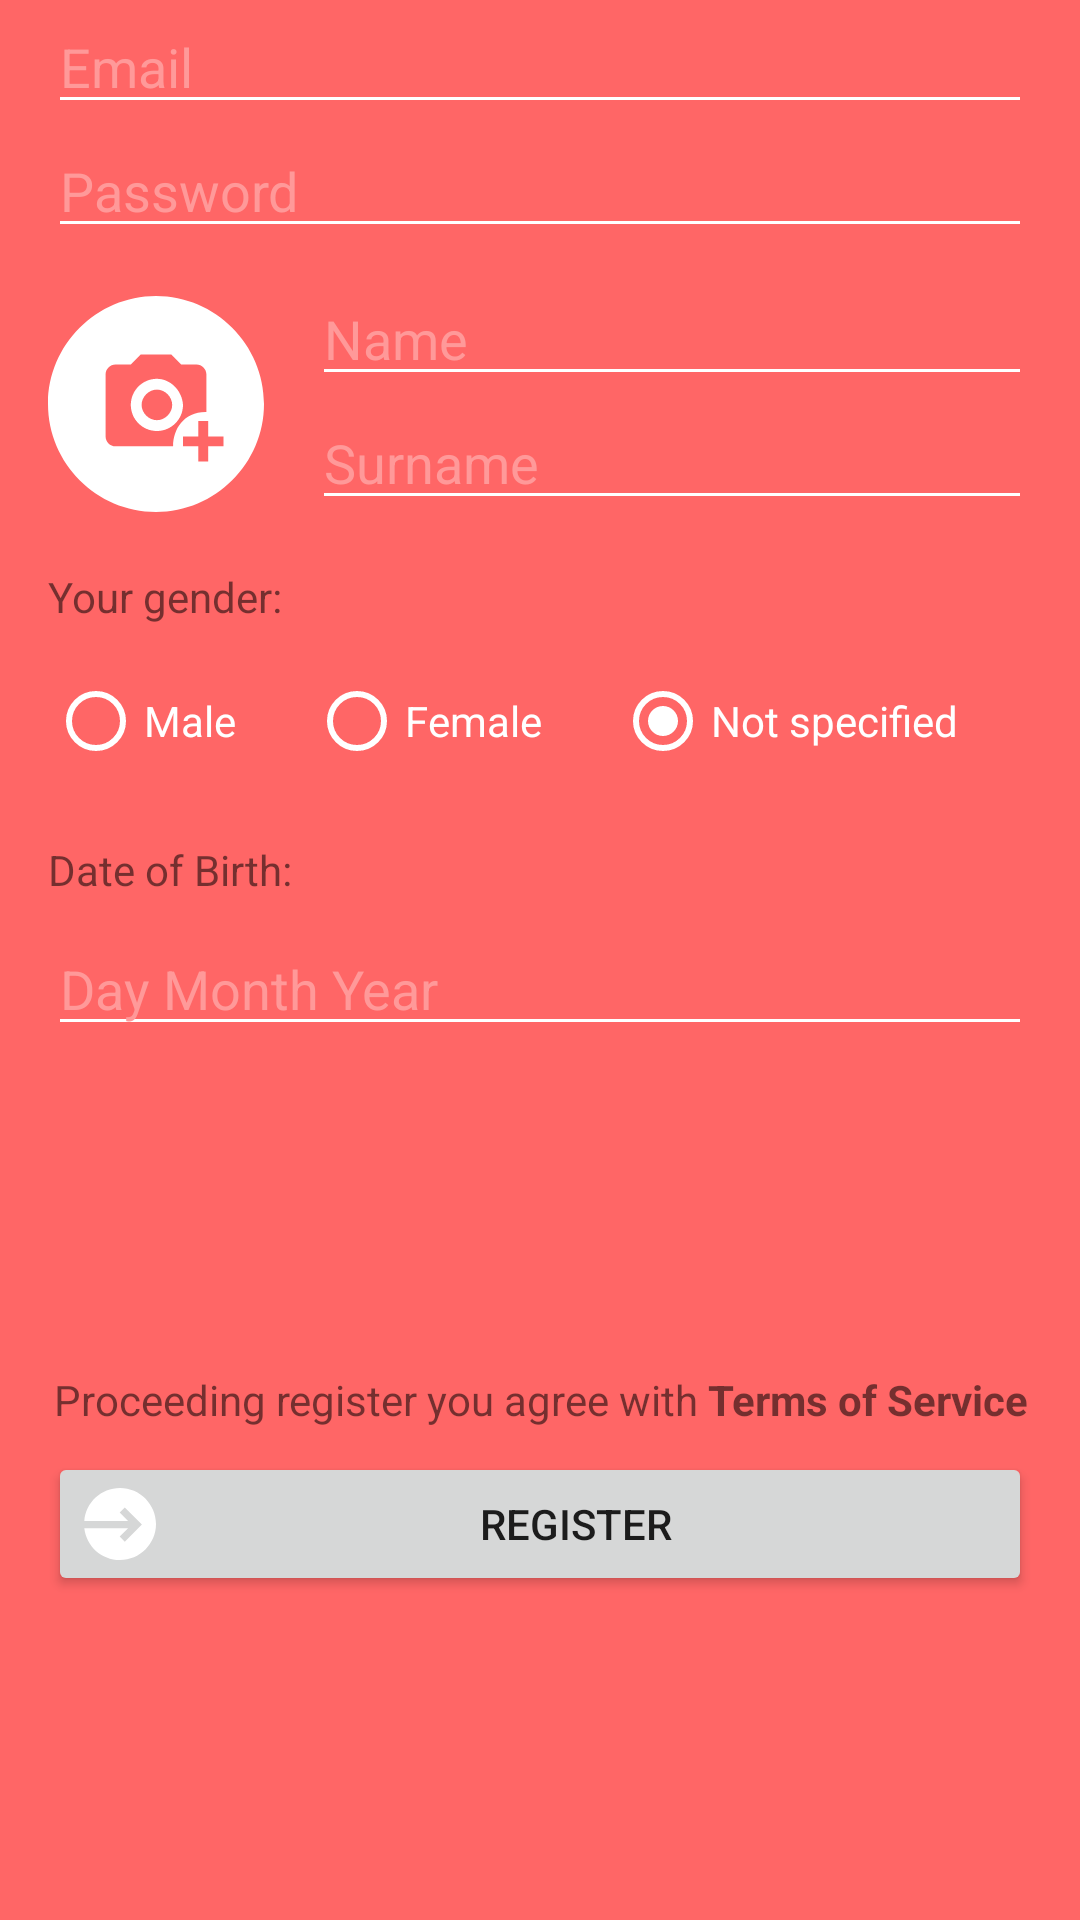

Icon click points for this 1080*1920 phone screenshot, format point (x, y):
Add Photo: point (156, 404)
